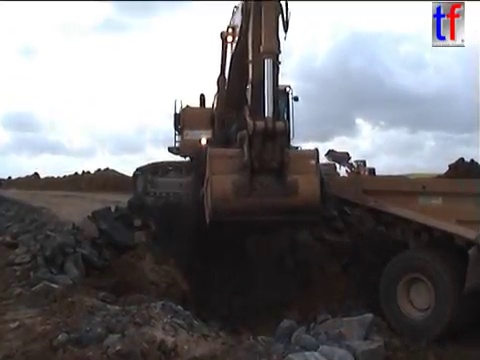truck: (127, 1, 348, 229), (325, 172, 480, 343)
wheel loader: (323, 147, 379, 183)
